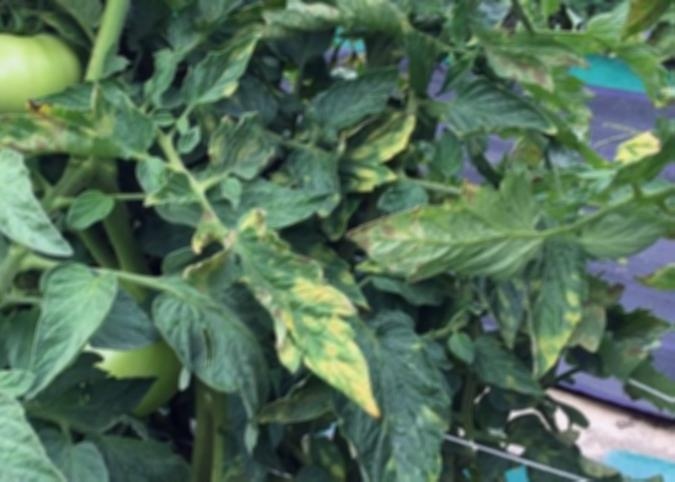Tomato mold leaf: (231, 225, 385, 418), (356, 164, 567, 290), (29, 257, 125, 403), (0, 87, 148, 159), (431, 69, 570, 144), (0, 389, 110, 482), (519, 230, 579, 378), (0, 152, 75, 264), (571, 203, 675, 262), (207, 113, 281, 190)
